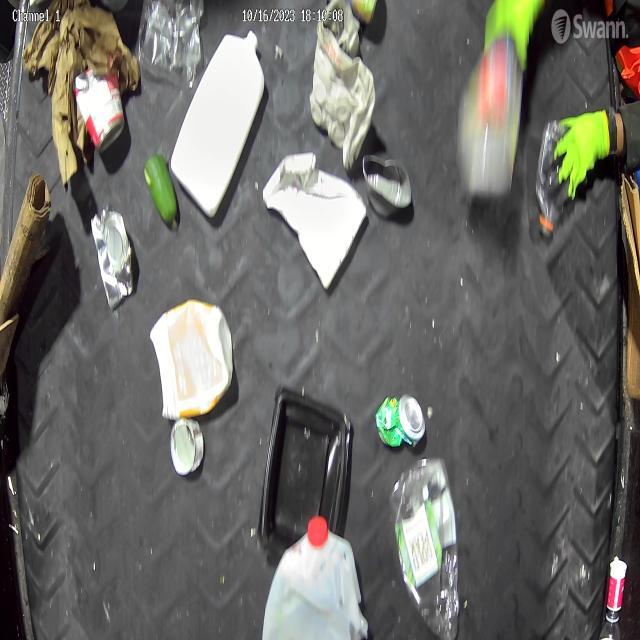can: (90, 208, 134, 310), (72, 70, 126, 152), (362, 152, 412, 220), (374, 394, 426, 448), (170, 418, 205, 476)
milk_jug: (171, 30, 266, 219), (262, 515, 369, 640)
non_white_jug: (150, 300, 234, 420)
plastic_bottle: (538, 122, 568, 238)
